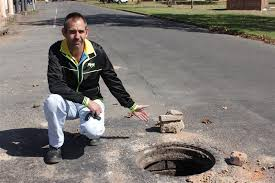Manhole-Open: (134, 131, 245, 180)
